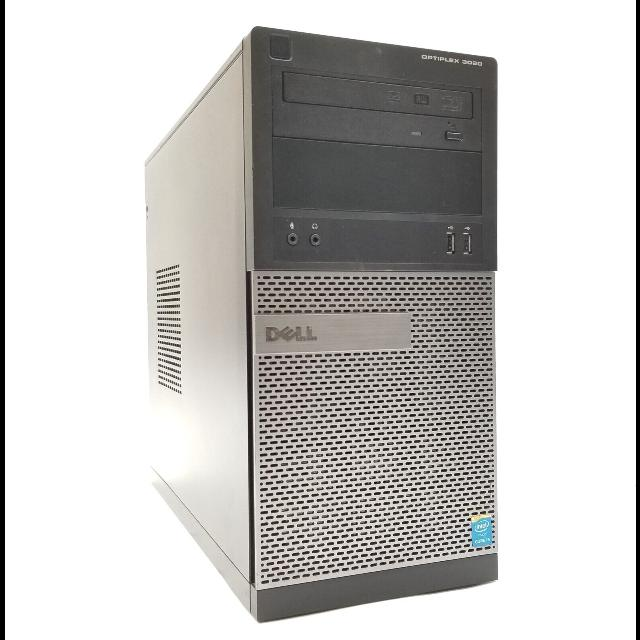Desktop-PC: (138, 19, 514, 617)
